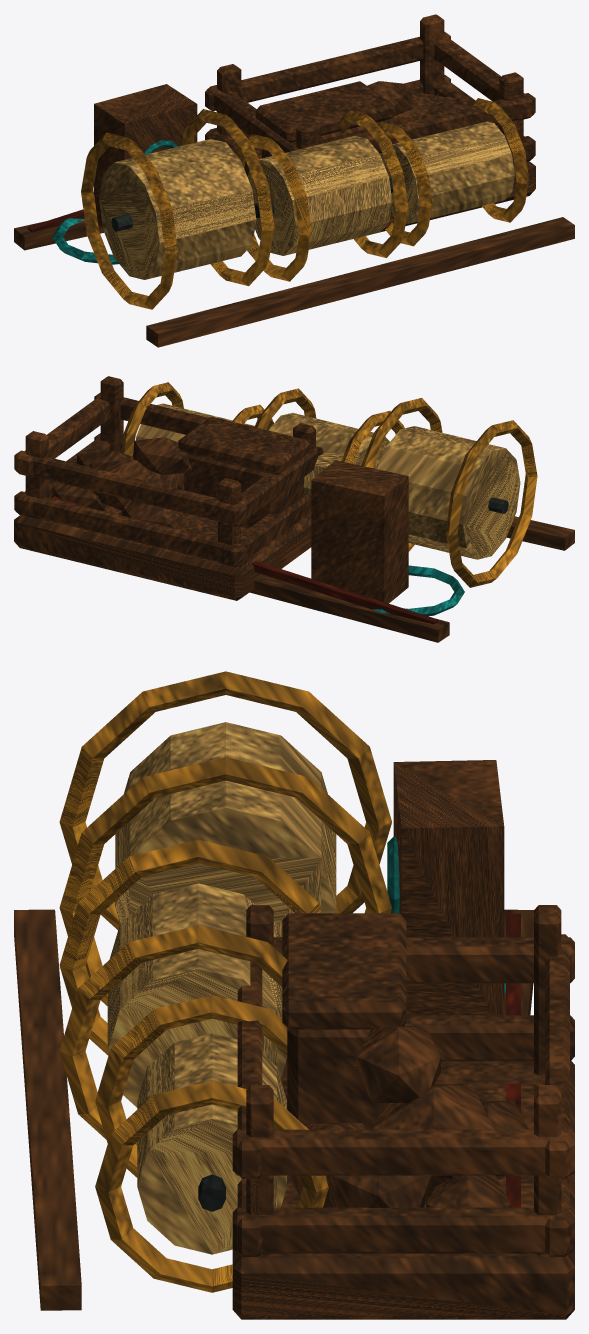
File: west-old-tool-cache.glb
3 renders of one model, top to bottom at view 1: azimuth 30°, elevation 25°; view 2: azimuth 150°, elevation 25°; view 3: azimuth 270°, elevation 25°, orthographic. The views are drawn at different scales.
Visible parts, largest first — view 1: west-old-tool-cache; view 2: west-old-tool-cache; view 3: west-old-tool-cache.
Part boxes in pixels (x1,y1,x2,y2): west-old-tool-cache: (14, 14, 574, 347); west-old-tool-cache: (14, 376, 574, 642); west-old-tool-cache: (14, 671, 574, 1319).
Size of the model in its own units: 6.75 by 2.43 by 4.1.
1 material, 1 textured.
